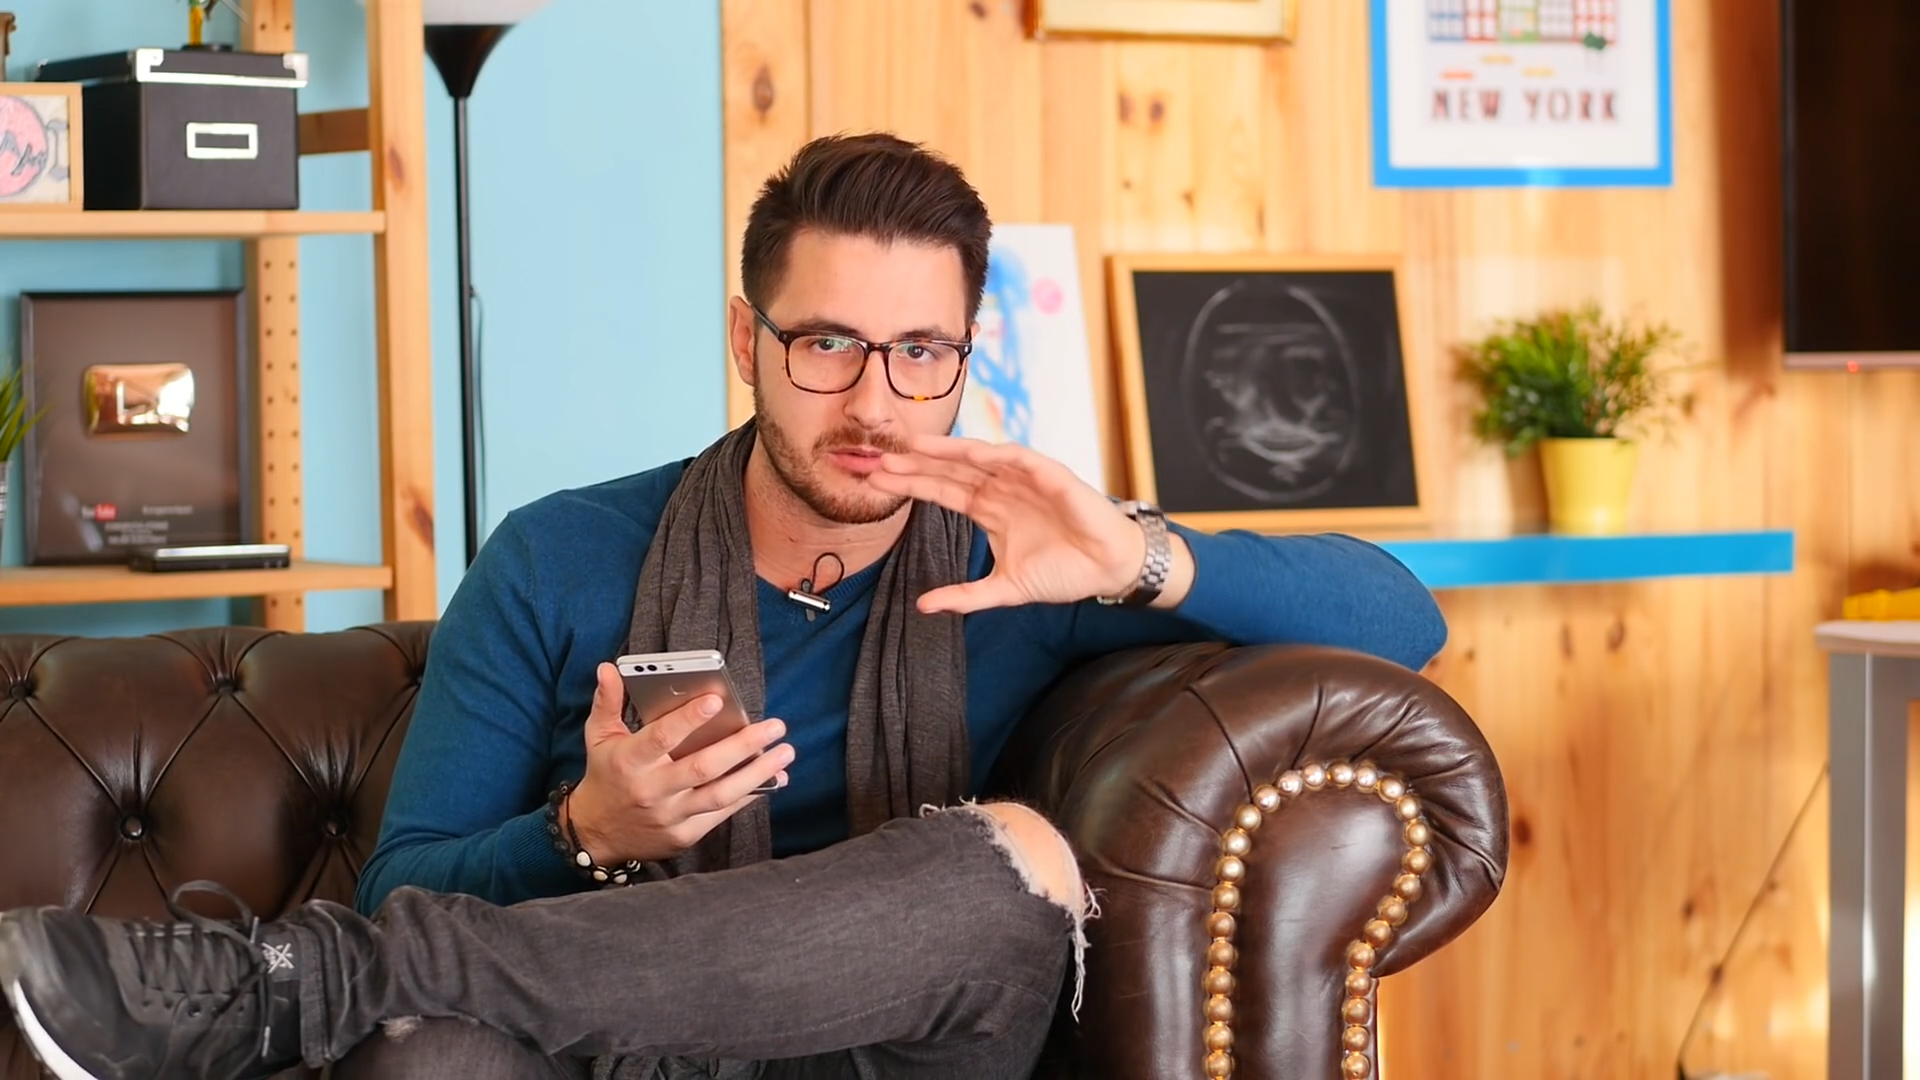smartphone: (615, 647, 782, 796)
